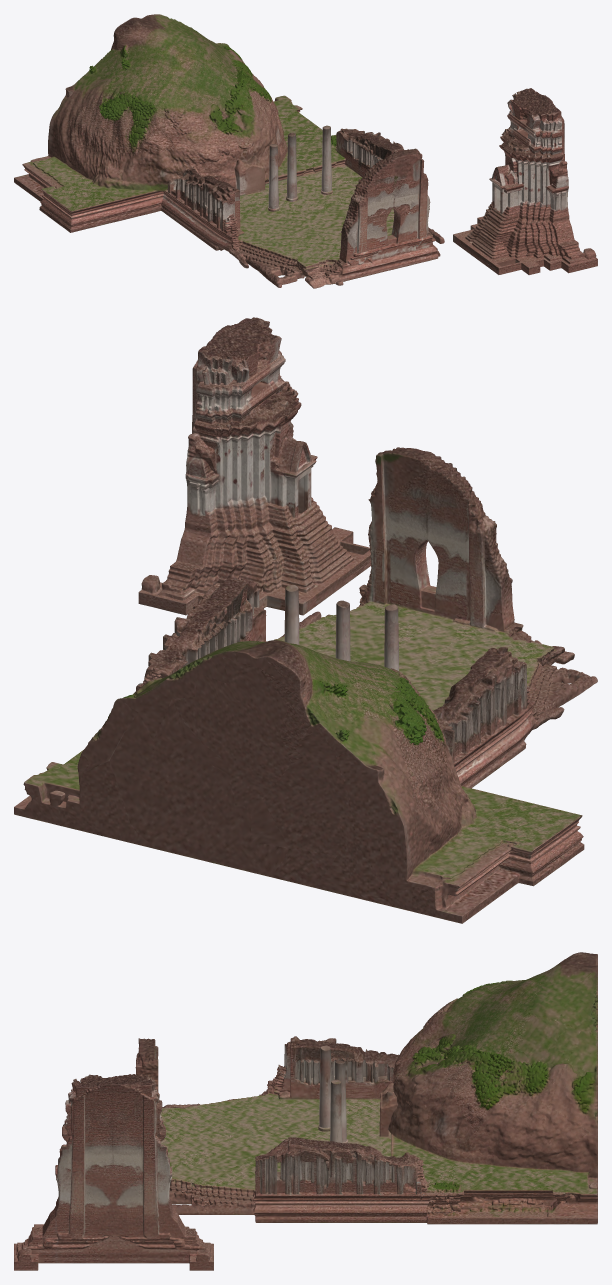
Rendered from nakhon-kosa.original.glb.
The picture shows the model from 3 angles, top to bottom: view 1: azimuth 30°, elevation 25°; view 2: azimuth 150°, elevation 25°; view 3: azimuth 270°, elevation 25°; orthographic projection. The views are drawn at different scales.
Size of the model in its own units: 1.71 by 0.6464 by 1.9.
1 material, 1 textured.
